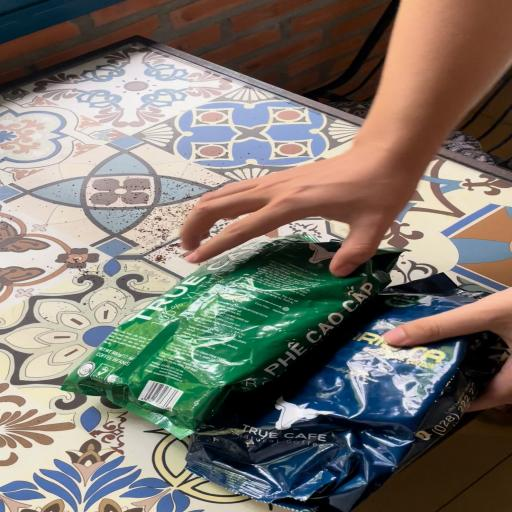cafe_hat: (185, 274, 507, 512)
cafe_xay: (62, 234, 399, 439)
